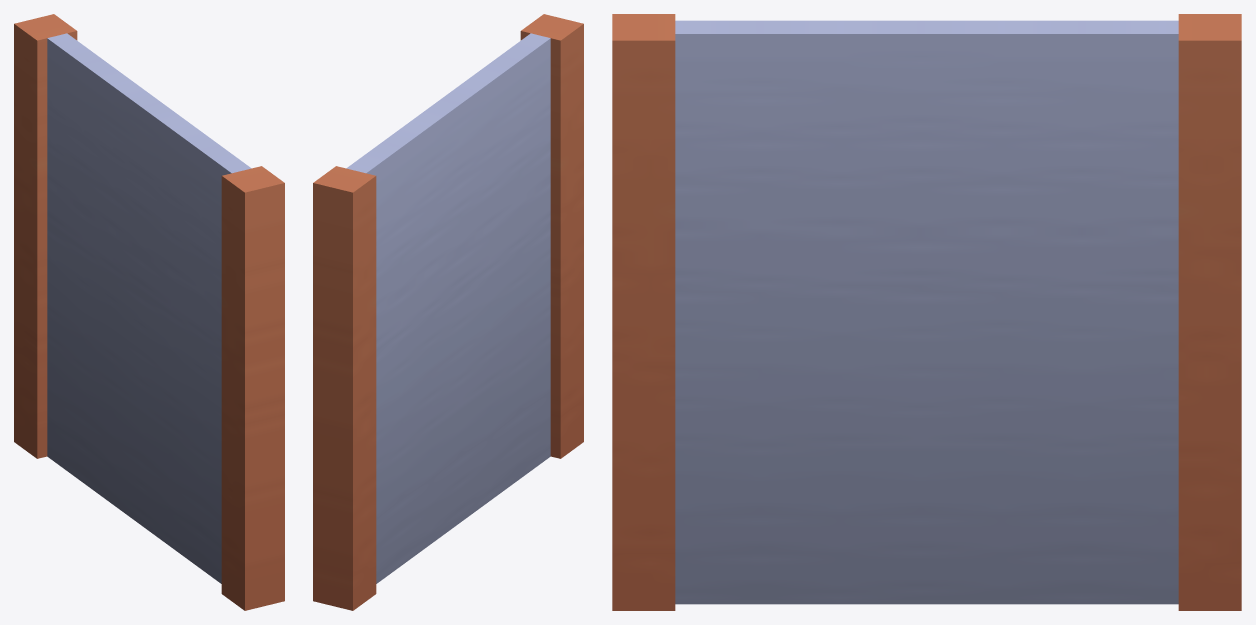
File: wall.fbx
3 views of the same model, side by side, from view 1: azimuth 30°, elevation 25°; view 2: azimuth 150°, elevation 25°; view 3: azimuth 270°, elevation 25° (orthographic). The views are drawn at different scales.
Visible parts, largest first — view 1: wall; view 2: wall; view 3: wall.
Part boxes in pixels (left/top/right/bottom): wall: left=14, top=14, right=284, bottom=610; wall: left=313, top=14, right=583, bottom=610; wall: left=612, top=14, right=1241, bottom=610.
Bounding box in the file's own units: 0.1 × 1 × 1.
